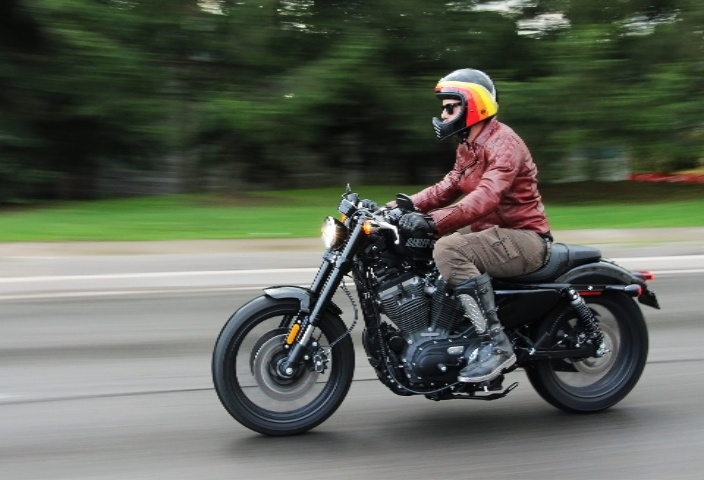motorcycle: (213, 174, 676, 435)
